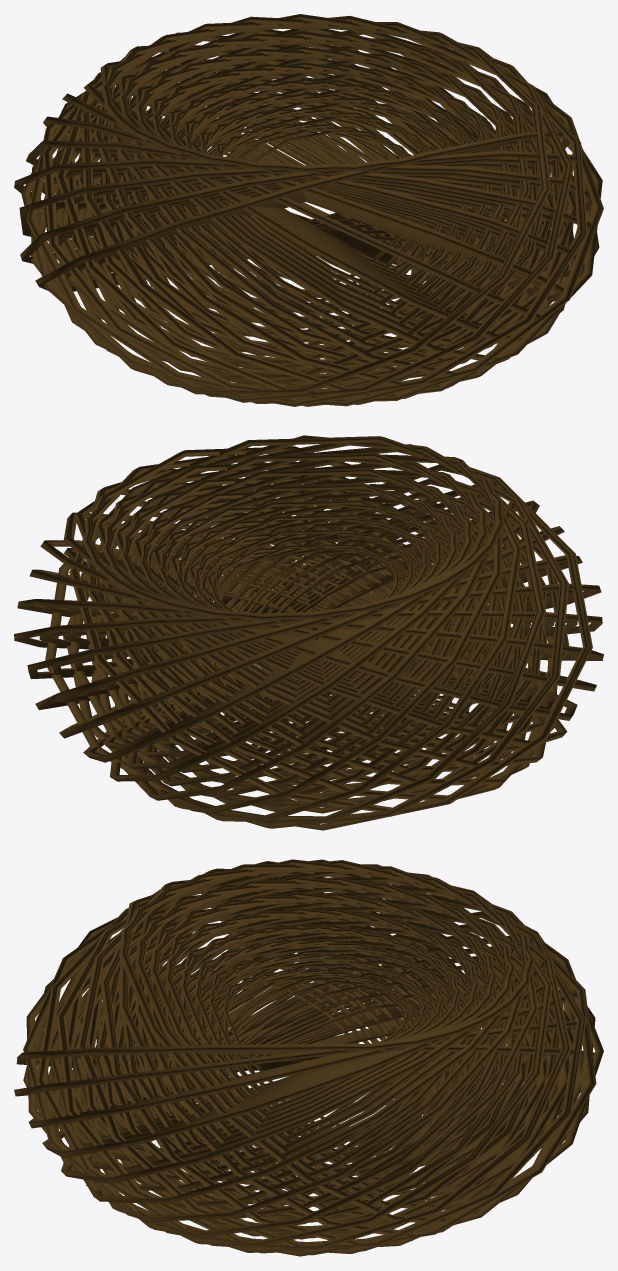
File: rust steel wool2.fbx
3 views of the same model, one above another, from view 1: azimuth 30°, elevation 25°; view 2: azimuth 150°, elevation 25°; view 3: azimuth 270°, elevation 25° (orthographic).
Parts seen in each view (by area): view 1: pTorus29; view 2: pTorus29; view 3: pTorus29.
Boxes of the visible parts, x1=… form: pTorus29: x1=14, y1=14, x2=603, y2=406; pTorus29: x1=14, y1=435, x2=603, y2=830; pTorus29: x1=14, y1=859, x2=603, y2=1256.
Bounding box in the file's own units: 0.4649 × 0.211 × 0.4671.
